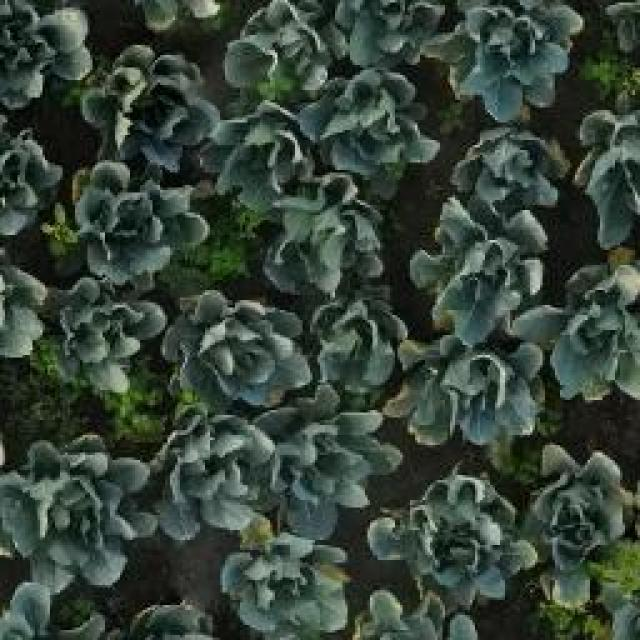cabbage: (7, 439, 155, 588), (371, 476, 530, 605), (166, 284, 312, 411), (436, 0, 584, 120), (149, 408, 279, 541), (74, 159, 218, 279), (411, 202, 544, 328), (403, 335, 544, 450), (539, 258, 640, 411), (265, 406, 397, 522), (87, 51, 218, 166), (218, 528, 348, 640), (312, 68, 441, 180), (520, 442, 640, 560), (272, 178, 387, 296), (49, 279, 163, 388), (306, 291, 410, 401), (566, 101, 640, 254), (452, 120, 569, 213), (220, 1, 326, 103), (218, 101, 316, 205), (0, 0, 93, 107), (0, 131, 59, 241)
